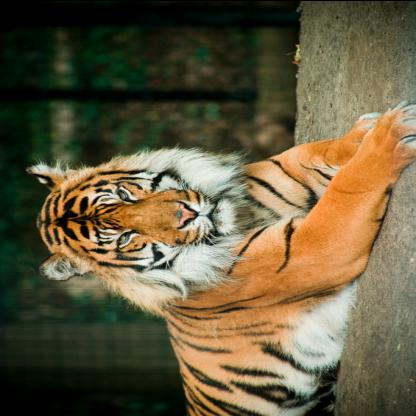tiger: (30, 123, 284, 297)
